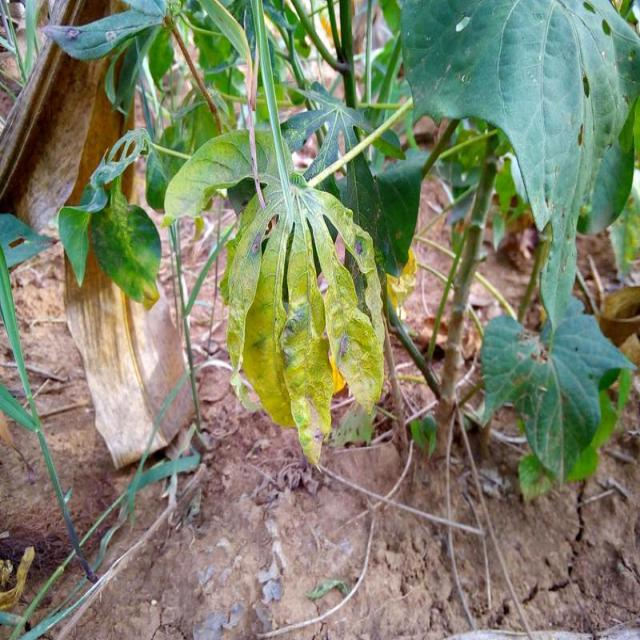cassava leaf: (400, 0, 640, 335), (480, 296, 638, 488)
